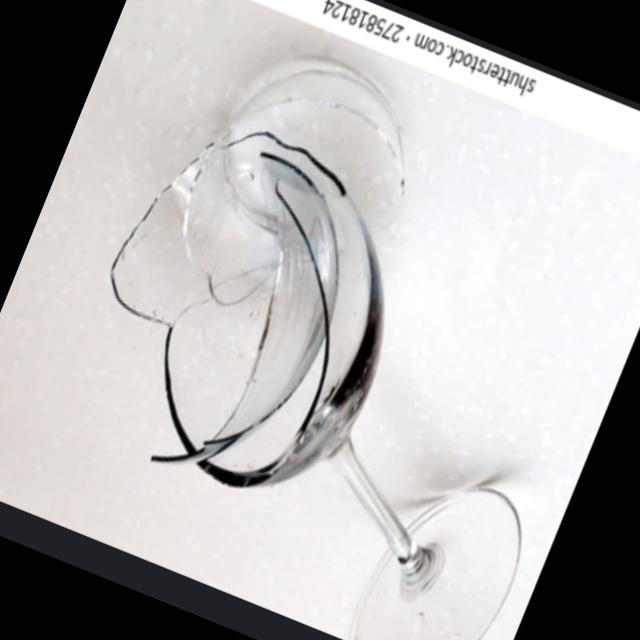PecahanKaca: (13, 12, 640, 640), (47, 14, 480, 532)
